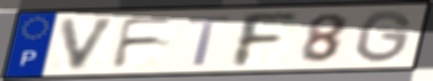8: (299, 11, 349, 65)
F: (231, 11, 300, 69), (109, 15, 179, 70)
G: (354, 8, 415, 65)
T: (186, 14, 233, 67)
V: (58, 15, 122, 72)
